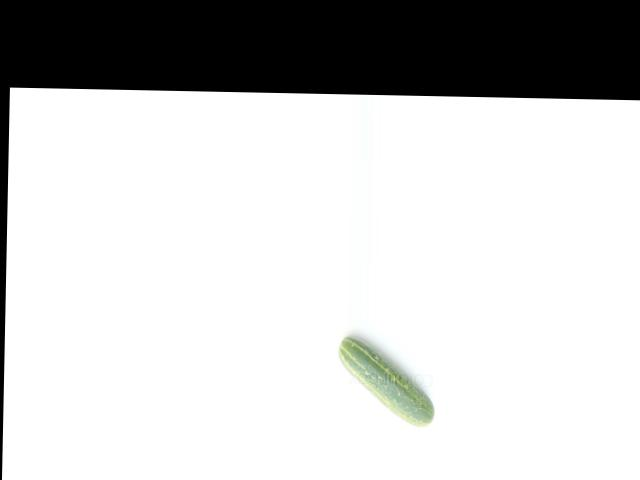cucumber: (335, 335, 435, 427)
